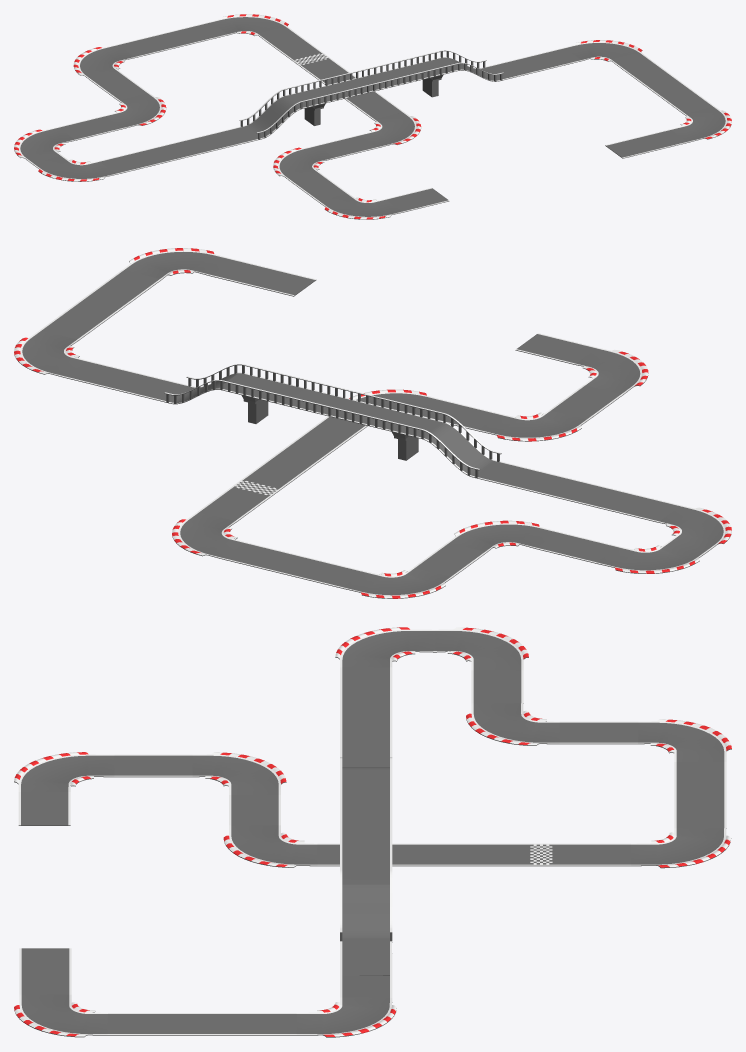
3 renders of one model, top to bottom at view 1: azimuth 30°, elevation 25°; view 2: azimuth 150°, elevation 25°; view 3: azimuth 270°, elevation 25°, orthographic. The views are drawn at different scales.
Parts seen in each view (by area): view 1: Cube.003_Material.001_0, Cube.003_Material_0, Cube.011, Cube.013, Cube.007_Material.001_0, Cube.025_Material.001_0, Cube.015_Material.001_0, Cube.021_Material.001_0, Cube.001_Material.001_0, Cube.010_Material.001_0, Cube.023_Material.001_0, Cube.006_Material.001_0 (+17 smaller); view 2: Cube.003_Material.001_0, Cube.013, Cube.011, Cube.003_Material_0, Cube.023_Material.001_0, Cube.006_Material.001_0, Cube.015_Material.001_0, Cube.010_Material.001_0, Cube.001_Material.001_0, Cube.025_Material.001_0, Cube.007_Material.001_0, Cube (+17 smaller); view 3: Cube.003_Material.001_0, Cube.011, Cube.013, Cube.015_Material.001_0, Cube.001_Material.001_0, Cube.010_Material.001_0, Cube.021_Material.001_0, Cube.007_Material.001_0, Cube.006_Material.001_0, Cube.025_Material.001_0, Cube.023_Material.001_0, Cube.004_Material.001_0 (+18 smaller).
Part boxes in pixels (bbox=[...]): Cube.003_Material.001_0: bbox=[194, 50, 550, 151]; Cube.003_Material_0: bbox=[193, 50, 550, 151]; Cube.011: bbox=[211, 14, 295, 40]; Cube.013: bbox=[73, 44, 135, 80]; Cube.007_Material.001_0: bbox=[31, 156, 116, 181]; Cube.025_Material.001_0: bbox=[318, 194, 402, 219]; Cube.015_Material.001_0: bbox=[671, 107, 731, 142]; Cube.021_Material.001_0: bbox=[360, 112, 420, 147]; Cube.001_Material.001_0: bbox=[106, 93, 165, 129]; Cube.010_Material.001_0: bbox=[565, 43, 647, 66]; Cube.023_Material.001_0: bbox=[274, 146, 334, 181]; Cube.006_Material.001_0: bbox=[14, 128, 75, 163]; Cube.003_Material.001_0: bbox=[106, 364, 559, 493]; Cube.013: bbox=[341, 567, 452, 598]; Cube.011: bbox=[172, 512, 244, 559]; Cube.003_Material_0: bbox=[105, 364, 560, 492]; Cube.023_Material.001_0: bbox=[478, 410, 588, 441]; Cube.006_Material.001_0: bbox=[595, 543, 705, 573]; Cube.015_Material.001_0: bbox=[124, 251, 231, 279]; Cube.010_Material.001_0: bbox=[15, 331, 85, 377]; Cube.001_Material.001_0: bbox=[449, 524, 557, 551]; Cube.025_Material.001_0: bbox=[575, 348, 648, 394]; Cube.007_Material.001_0: bbox=[658, 506, 731, 552]; Cube: bbox=[222, 542, 304, 573]; Cube.003_Material.001_0: bbox=[340, 734, 392, 975]; Cube.011: bbox=[631, 828, 731, 868]; Cube.013: bbox=[638, 719, 731, 761]; Cube.015_Material.001_0: bbox=[14, 994, 107, 1037]; Cube.001_Material.001_0: bbox=[466, 703, 559, 745]; Cube.010_Material.001_0: bbox=[296, 997, 396, 1037]; Cube.021_Material.001_0: bbox=[223, 825, 317, 867]; Cube.007_Material.001_0: bbox=[335, 631, 435, 667]; Cube.006_Material.001_0: bbox=[435, 631, 528, 670]; Cube.025_Material.001_0: bbox=[14, 755, 114, 791]; Cube.023_Material.001_0: bbox=[192, 755, 286, 794]; Cube.004_Material.001_0: bbox=[559, 722, 638, 744].
Bounding box in the file's own units: 534 × 27.74 × 395.
